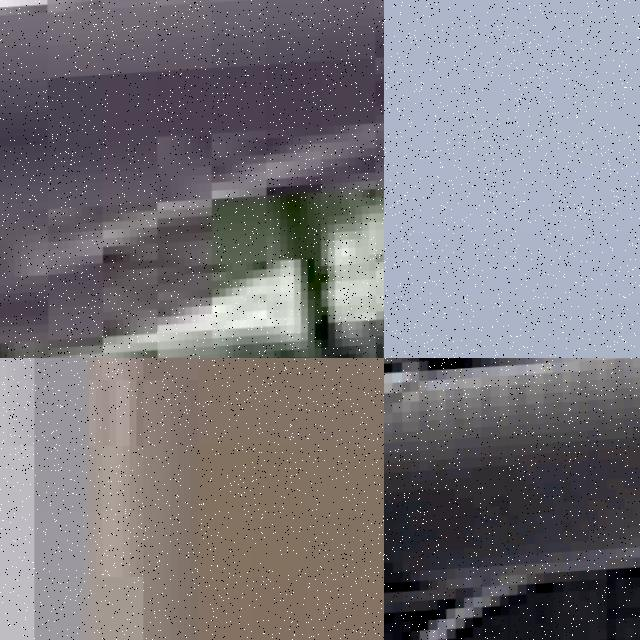0: (0, 0, 384, 358)
drone: (384, 358, 640, 640)
